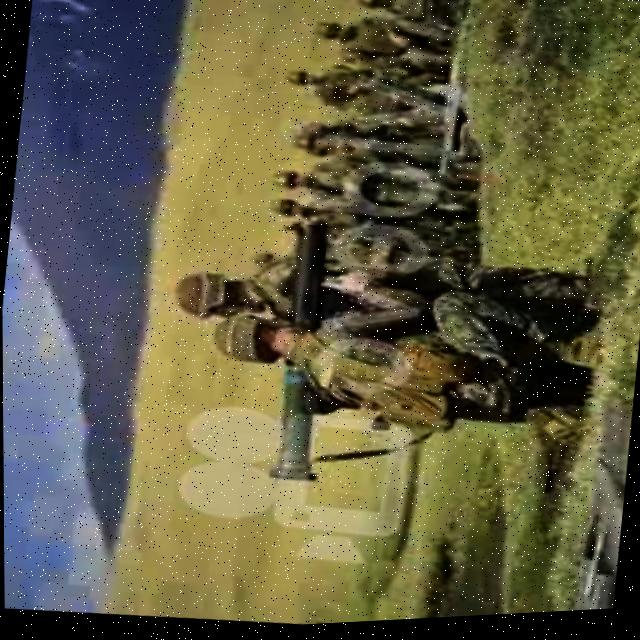rocket: (245, 212, 362, 490)
